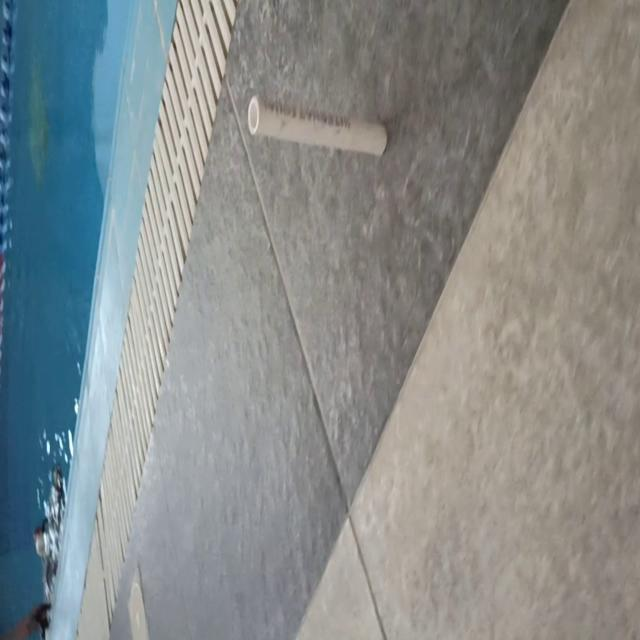Cube: (246, 93, 388, 159)
